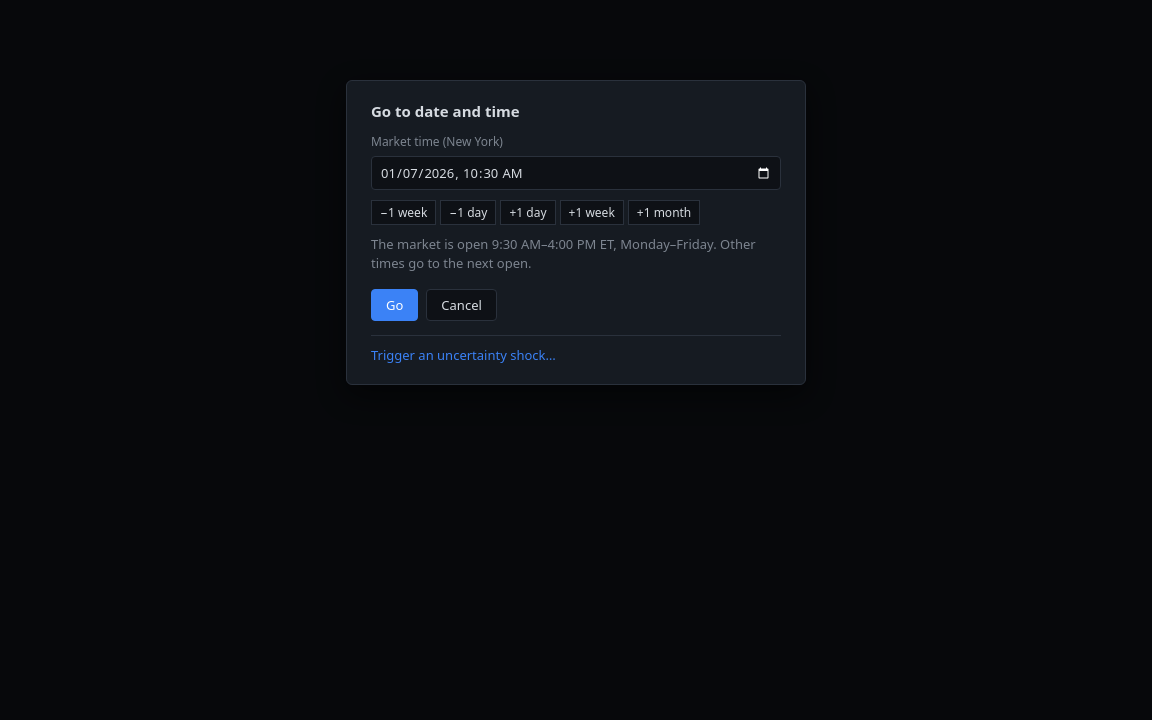
Scenario: GoToDialog › shortcuts shift the date
What coordinates should you click on to do the following:
click the button "+1 week"
I would click on:
 (592, 212)
Its box is [560,200,624,225].
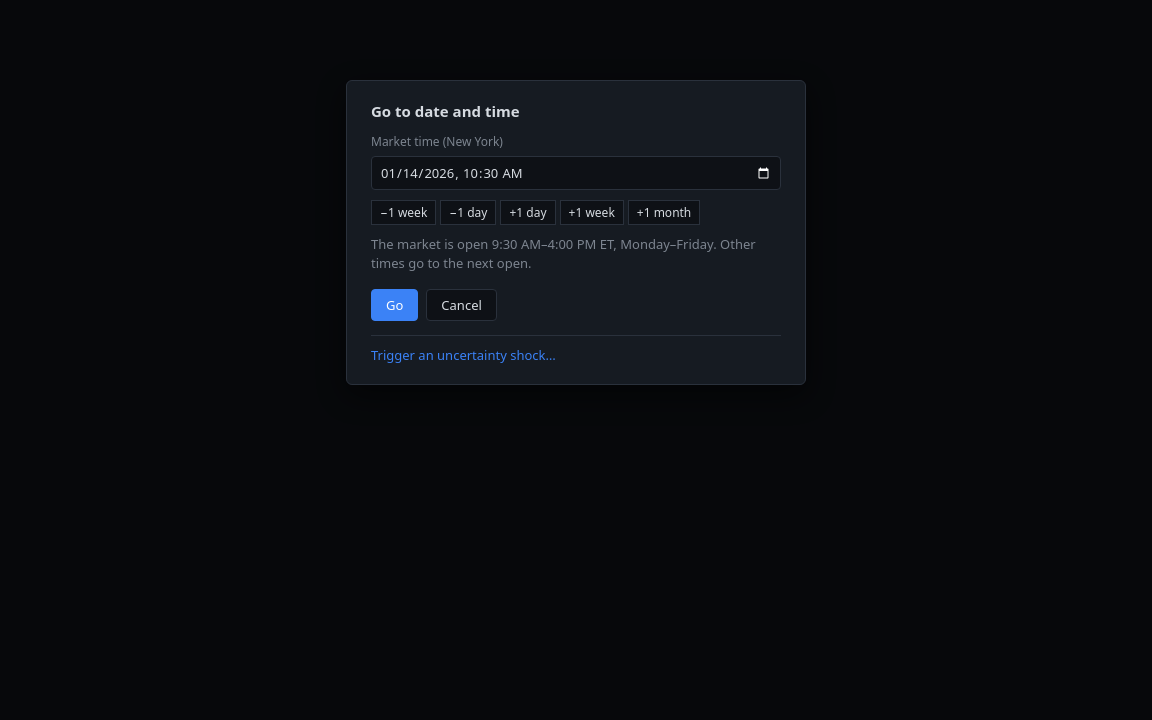
Check: the field named "Market date and time" holds "2026-01-14T10:30", box [371,156,781,190]
